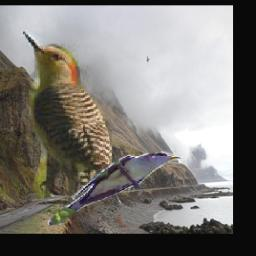Cuckoo: (48, 152, 181, 226)
Woodpecker: (20, 30, 112, 213)
